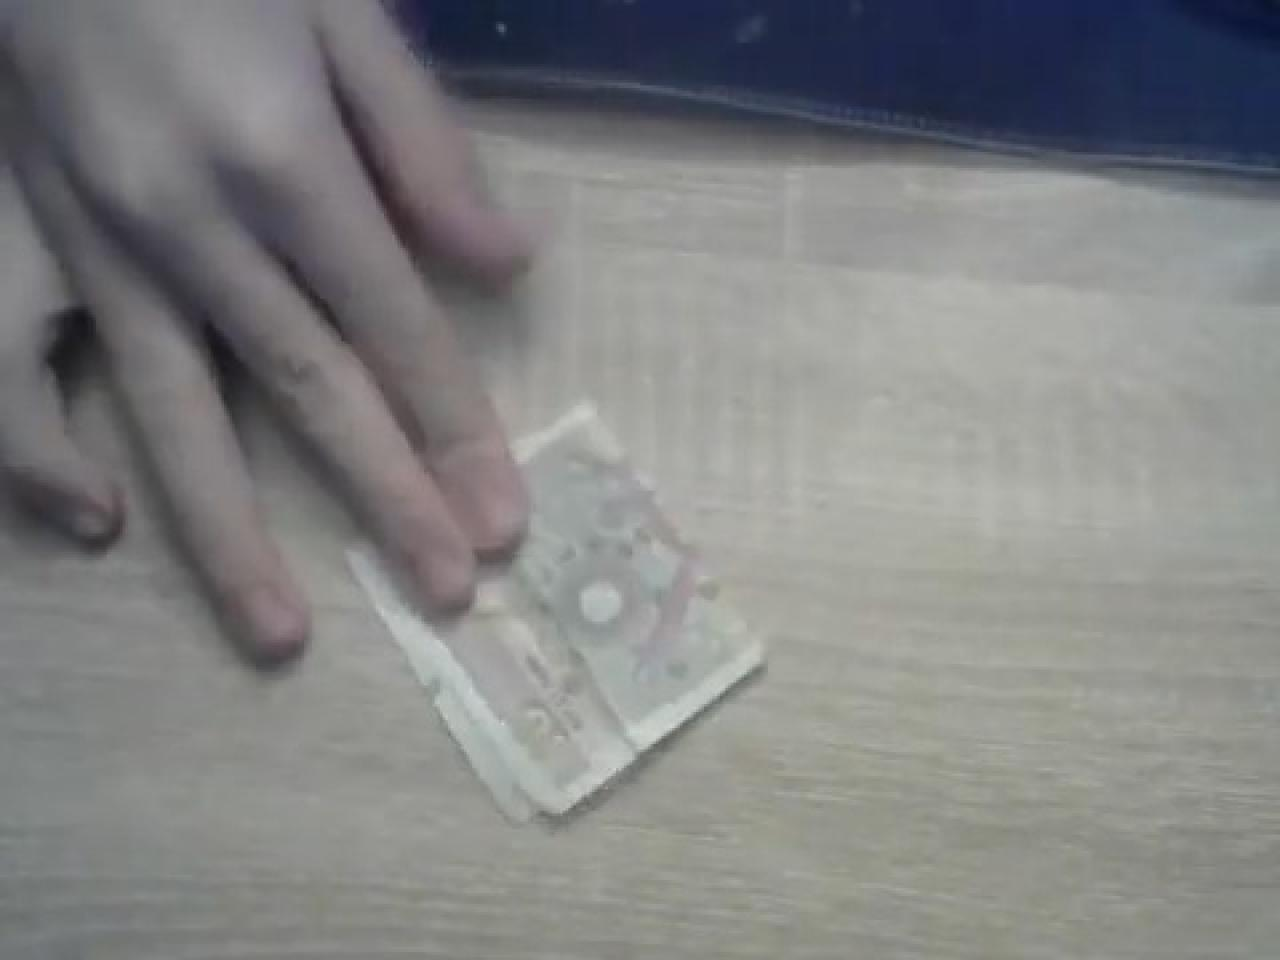10leva: (342, 394, 768, 827)
